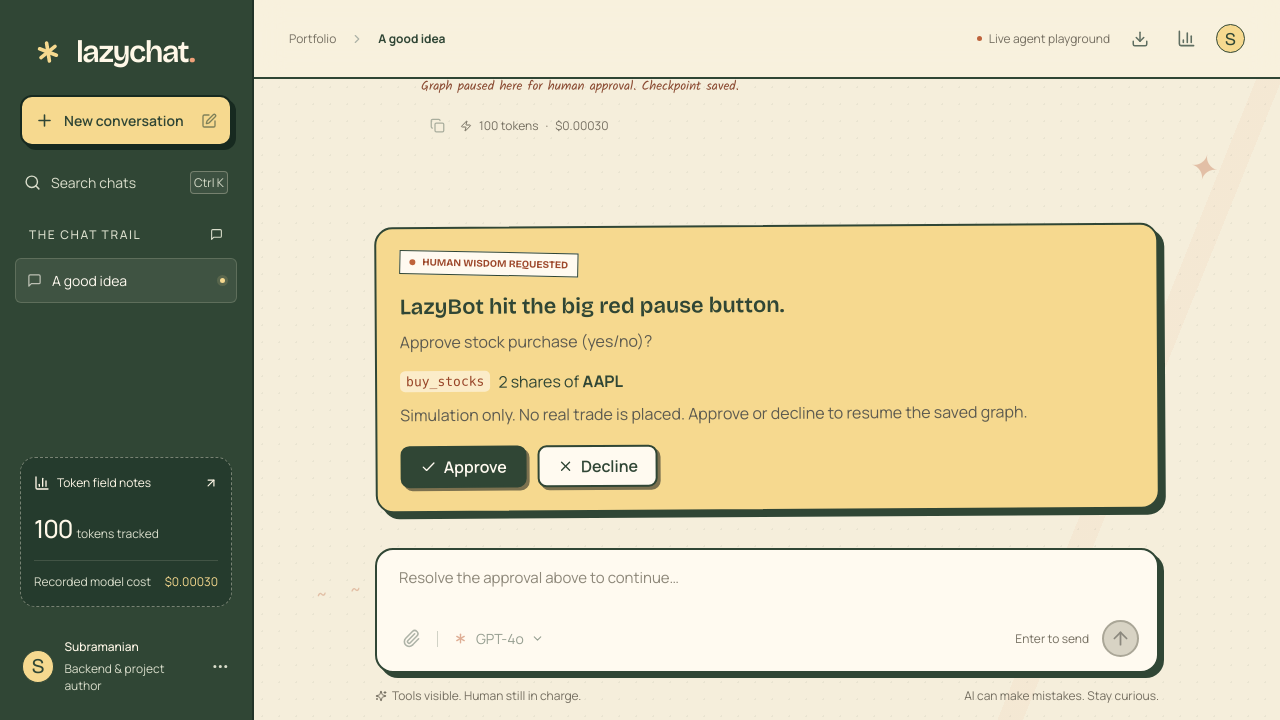
it: human approval › restores a checkpoint and submits approved=false without another user message
(page scrolled)
Expected: the element named "Pending tool approval" is shown, x1=374 y1=222 x2=1160 y2=513
Expected: the text box named "Message LazyChat" is disabled, x1=395 y1=566 x2=1139 y2=604
Click the button "Decline". click: (598, 466)
box: x1=538 y1=444 x2=658 y2=487
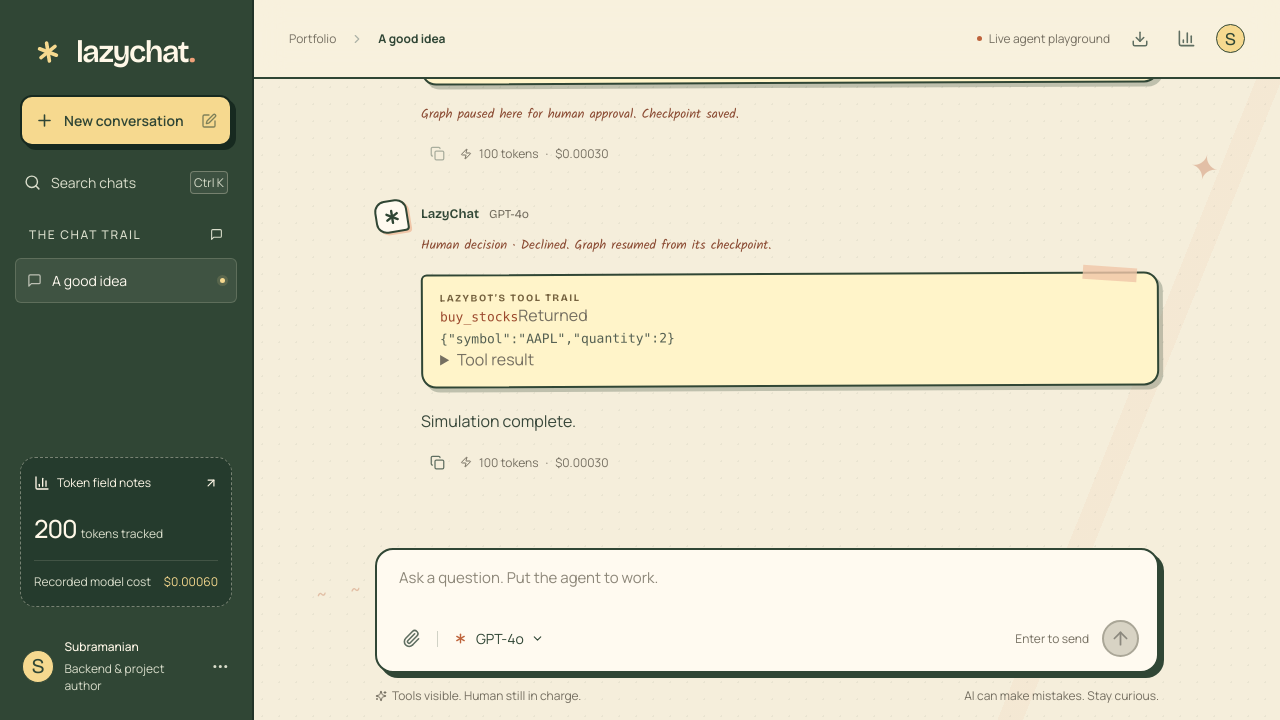
Now the text "Simulation complete." is shown, box x1=421 y1=410 x2=576 y2=432
Now the text "Human decision · Declined" is shown, box x1=421 y1=235 x2=771 y2=256
Now the text "Returned" is shown, box x1=518 y1=304 x2=588 y2=326
